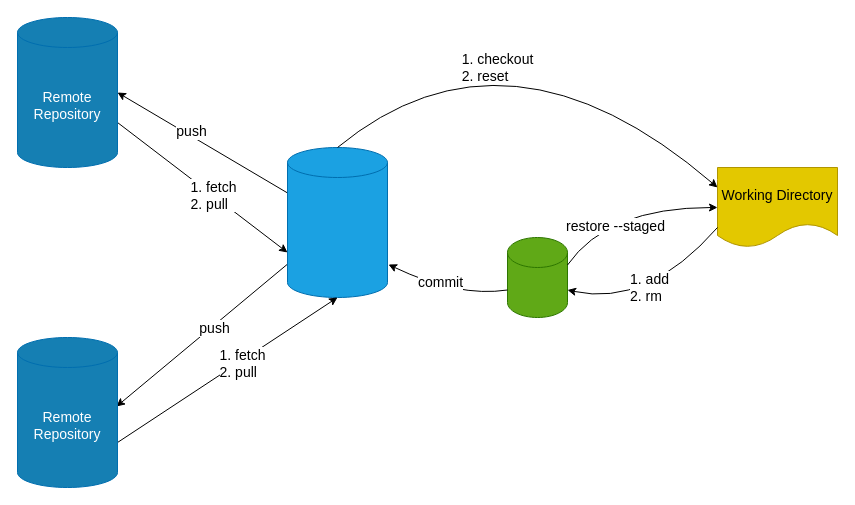
Some shapes in this 855 by 505 pixel diagram are drawn without their labels. Here are the shapes that lost their labels. From the top down, the box of each, then its label:
(286, 146, 388, 298): Local Repository
(506, 236, 568, 318): Staging Area
